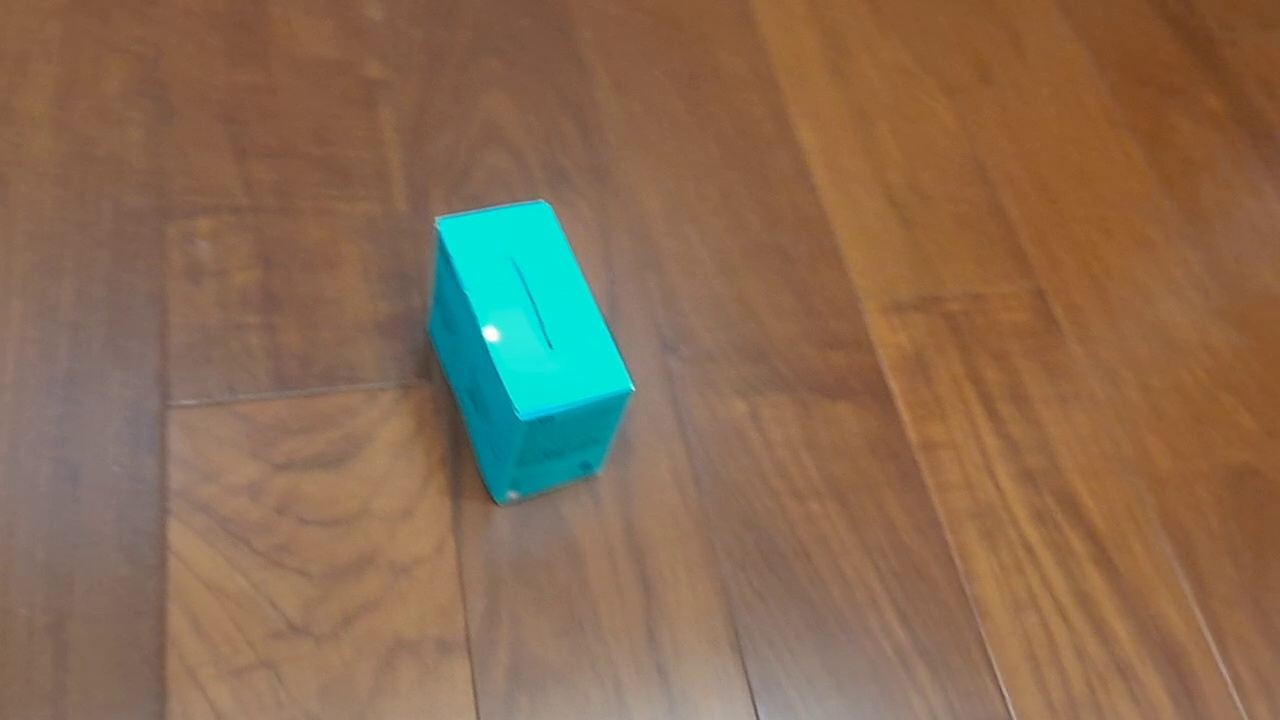webcam: (426, 197, 637, 507)
